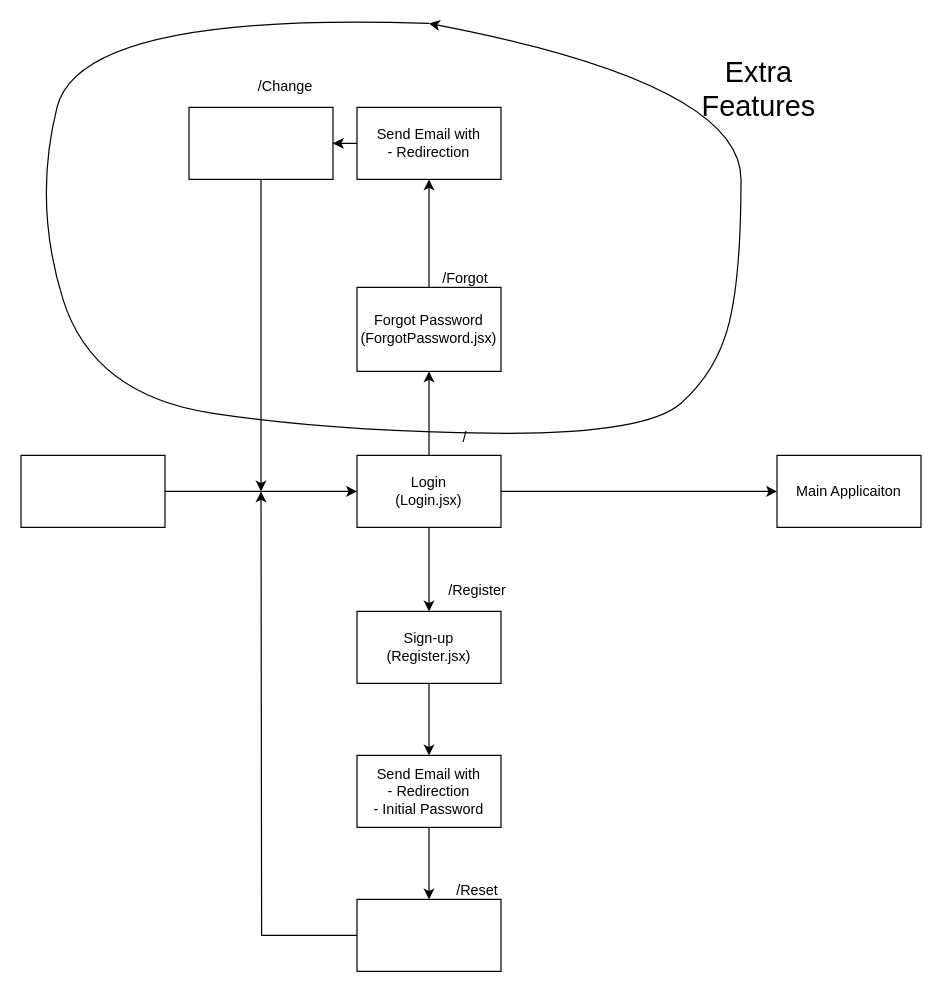
The diagram is 942 pixels wide and 992 high, and some of its shapes have lost their labels. Each missing label, with the centre of its shape:
"Change Password (Update in Databse)" goes at (260,142).
"Reset Password (Reset.jsx) This is where User is Registered to DB" goes at (428,934).
"User" goes at (92,490).
